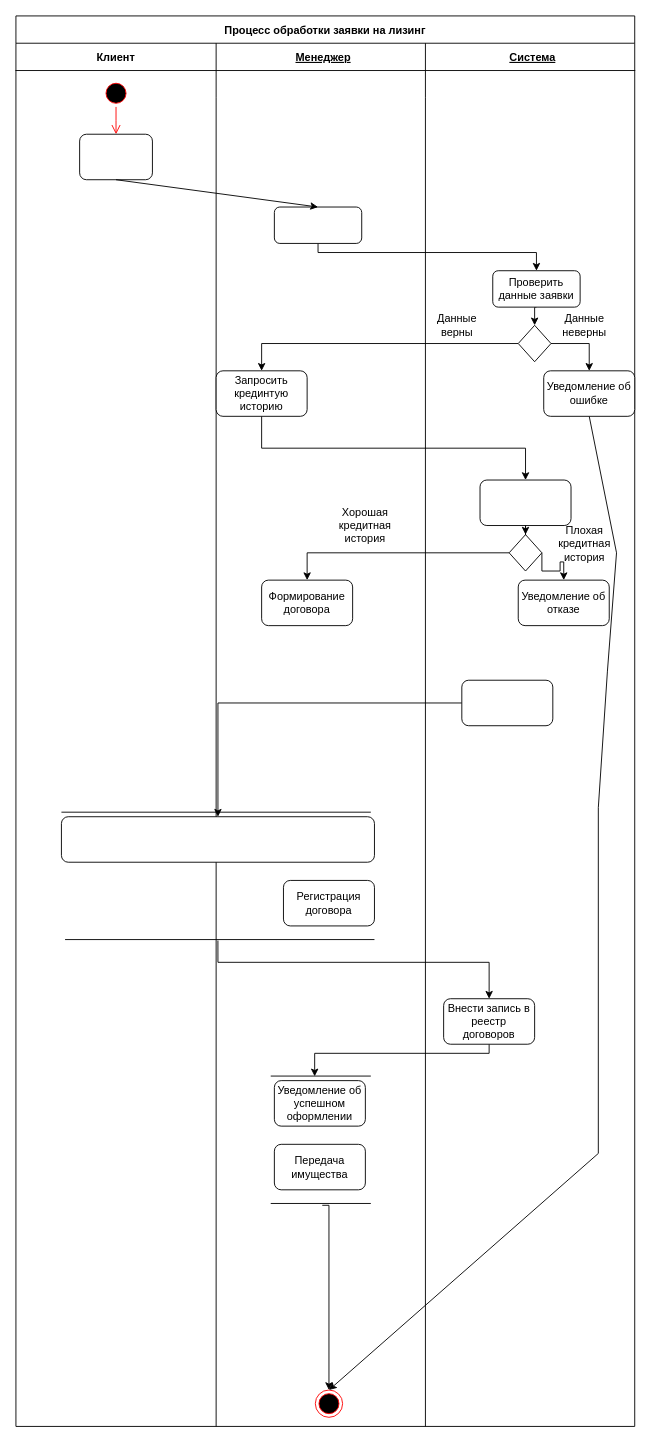
This 651x1442 diagram has some shape labels left out. Here are the shapes that lost their labels. From the top down, the centre of each, then its label:
At point 115,156: "Подача заявки".
At point 317,224: "Направить данные на проверку".
At point 525,502: "Проанализировать кредитный рейтинг".
At point 507,702: "Сгенерировать проект договора".
At point 217,839: "Подписание договора".
